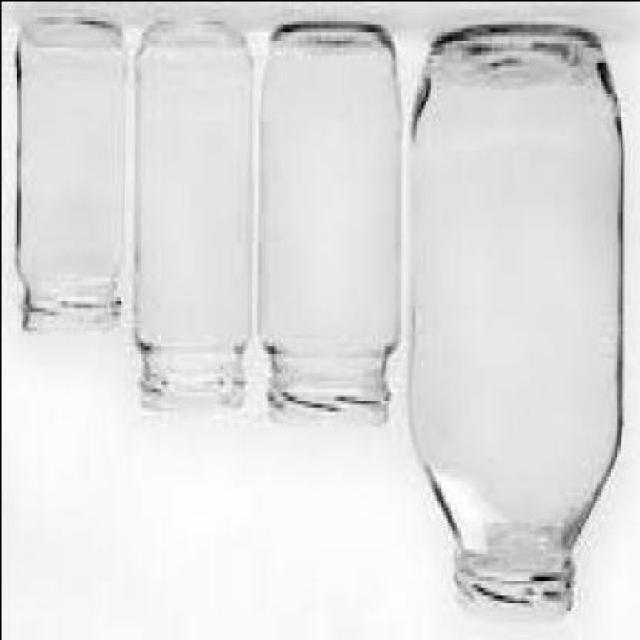GLASS: (405, 31, 620, 617), (252, 22, 398, 426), (132, 22, 251, 410), (13, 19, 119, 338)
